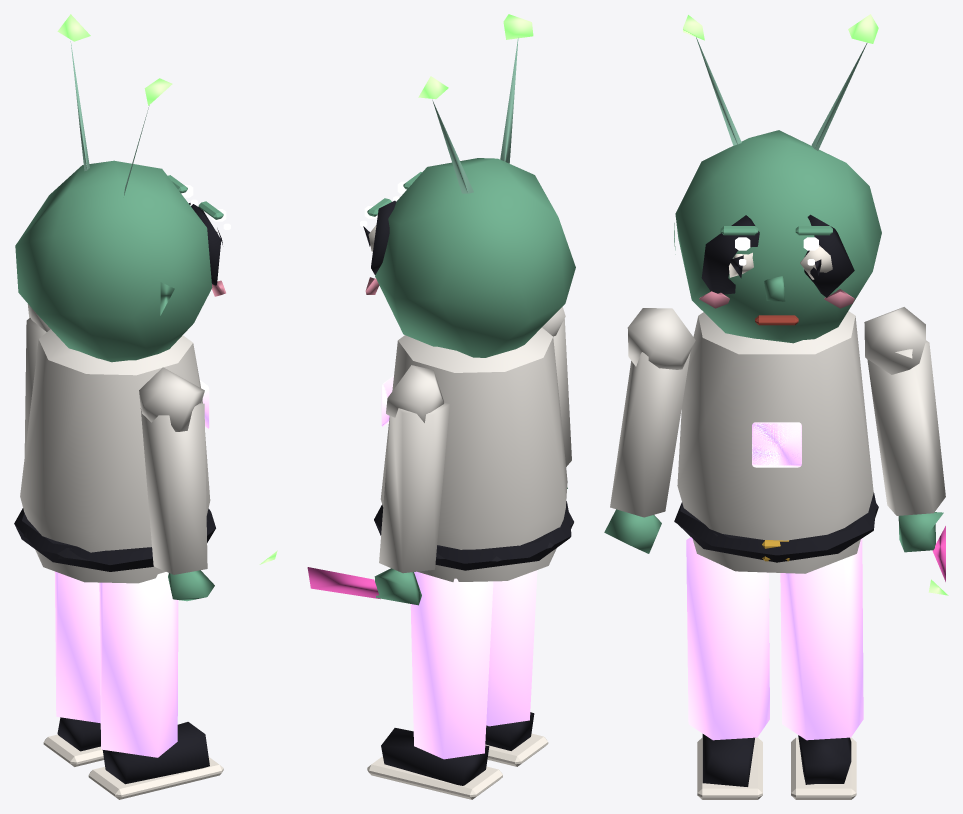
File: alien.glb
3 renders of one model, left to right at view 1: azimuth 30°, elevation 25°; view 2: azimuth 150°, elevation 25°; view 3: azimuth 270°, elevation 25°, orthographic. The views are drawn at different scales.
Parts seen in each view (by area): view 1: alien; view 2: alien; view 3: alien.
Boxes of the visible parts, x1,y1,x2,y2 form: alien: (14, 14, 230, 799); alien: (259, 14, 575, 799); alien: (604, 14, 948, 799).
Bounding box in the file's own units: 0.4257 × 1.33 × 0.5521.
Materials: 1 (1 with a texture image).
